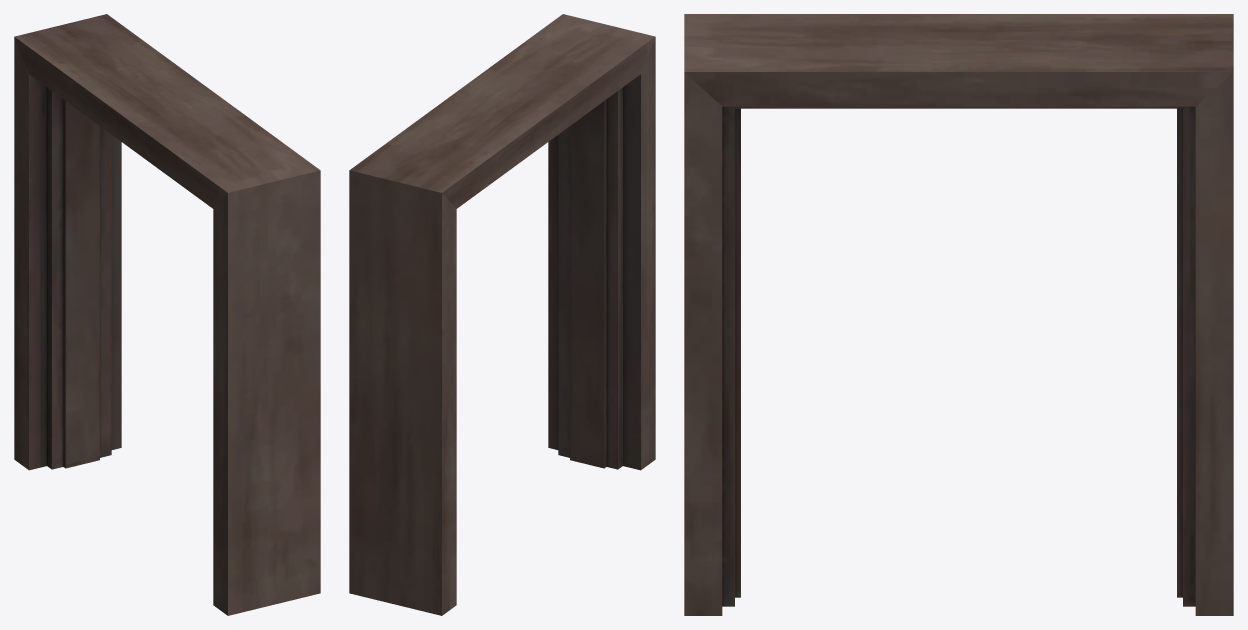
The picture shows the model from 3 angles, left to right: view 1: azimuth 30°, elevation 25°; view 2: azimuth 150°, elevation 25°; view 3: azimuth 270°, elevation 25°; orthographic projection. The views are drawn at different scales.
Parts seen in each view (by area): view 1: body0_model0_lod0_mesh0; view 2: body0_model0_lod0_mesh0; view 3: body0_model0_lod0_mesh0.
Boxes of the visible parts, x1=… form: body0_model0_lod0_mesh0: x1=14, y1=14, x2=320, y2=615; body0_model0_lod0_mesh0: x1=349, y1=14, x2=655, y2=615; body0_model0_lod0_mesh0: x1=684, y1=14, x2=1233, y2=615.
Bounding box in the file's own units: 32.55 × 142 × 130.
Materials: 1 (1 with a texture image).
